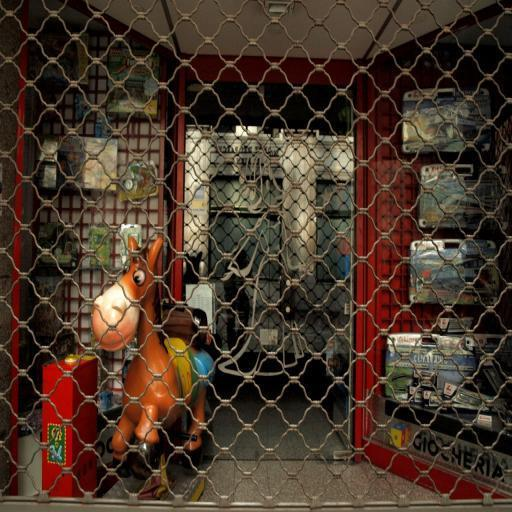horse: (90, 234, 210, 458)
